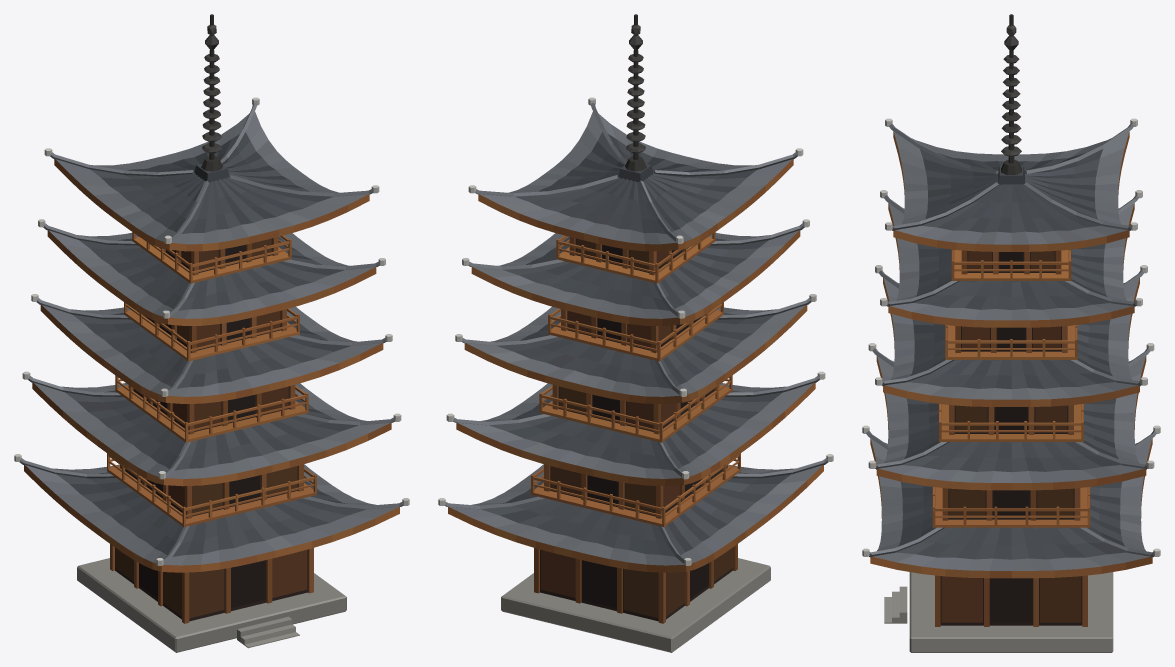
The model's file is zen_pagoda.glb.
3 renders of one model, left to right at view 1: azimuth 30°, elevation 25°; view 2: azimuth 150°, elevation 25°; view 3: azimuth 270°, elevation 25°, orthographic. The views are drawn at different scales.
Parts seen in each view (by area): view 1: zen_pagoda; view 2: zen_pagoda; view 3: zen_pagoda.
Boxes of the visible parts, box(x1,y1,x2,y2) form: zen_pagoda: box(14, 14, 409, 652); zen_pagoda: box(438, 14, 833, 652); zen_pagoda: box(862, 14, 1160, 652).
Bounding box in the file's own units: 11.71 × 25.9 × 11.75.
